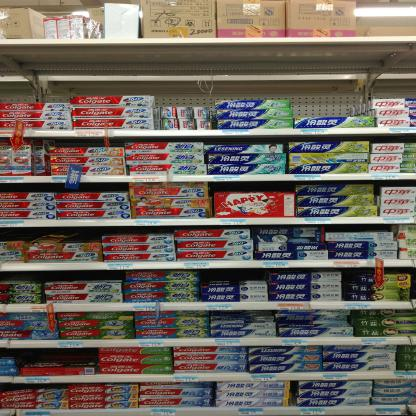Void: (293, 97, 367, 115), (22, 348, 96, 363), (6, 272, 124, 280), (1, 185, 121, 192), (53, 138, 119, 148), (212, 184, 291, 192), (203, 272, 265, 280)
